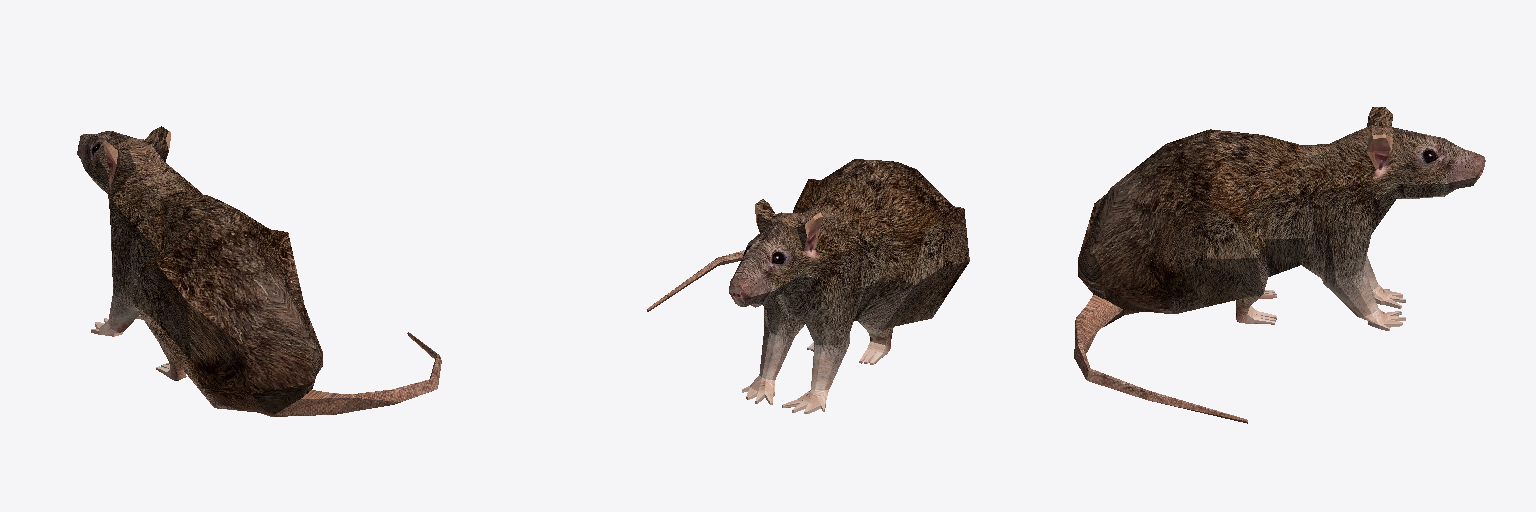
The picture shows the model from 3 angles: view 1: azimuth 30°, elevation 25°; view 2: azimuth 150°, elevation 25°; view 3: azimuth 270°, elevation 25°; orthographic projection.
Visible parts, largest first — view 1: rat_Mesh; view 2: rat_Mesh; view 3: rat_Mesh.
Part boxes in pixels (x1,y1,x2,y2): rat_Mesh: (77, 126, 441, 416); rat_Mesh: (647, 159, 969, 413); rat_Mesh: (1074, 107, 1485, 423).
Size of the model in its own units: 31.93 by 22.56 by 41.53.
Materials: 1 (1 with a texture image).